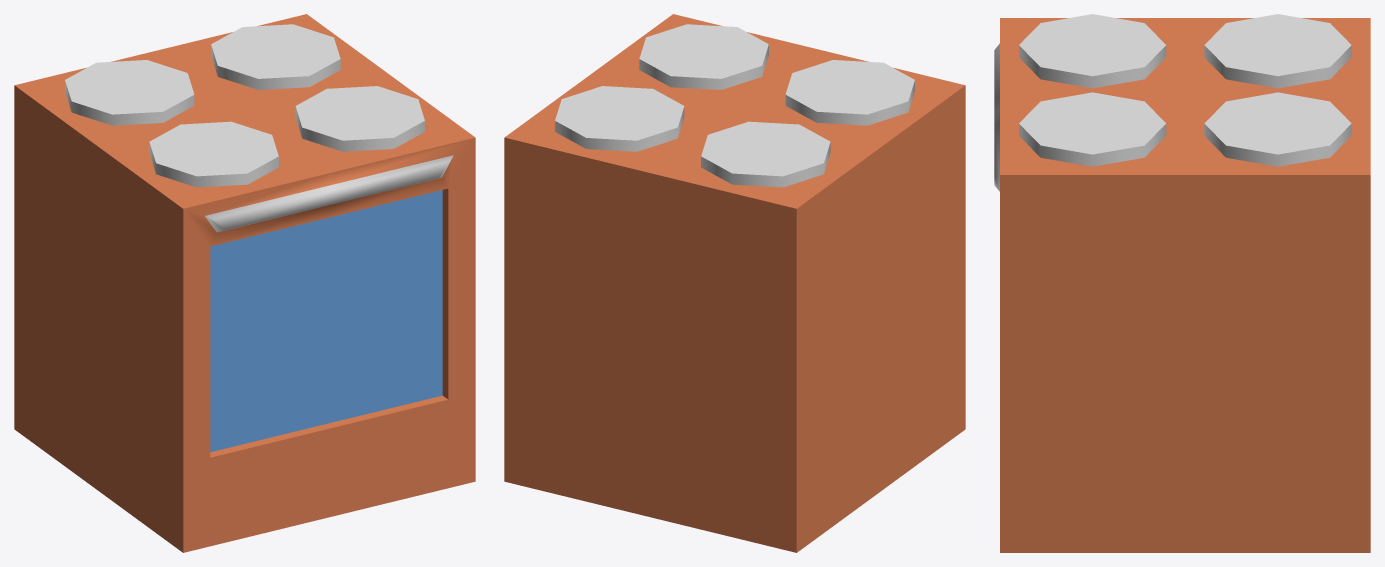
File: Forge.fbx
3 views of the same model, side by side, from view 1: azimuth 30°, elevation 25°; view 2: azimuth 150°, elevation 25°; view 3: azimuth 270°, elevation 25° (orthographic). The views are drawn at different scales.
Visible parts, largest first — view 1: Forge; view 2: Forge; view 3: Forge.
Part boxes in pixels (<box>): Forge: <box>14,14,475,552</box>; Forge: <box>504,14,965,552</box>; Forge: <box>994,14,1370,552</box>.
Bounding box in the file's own units: 72.83 × 84.57 × 73.94.
